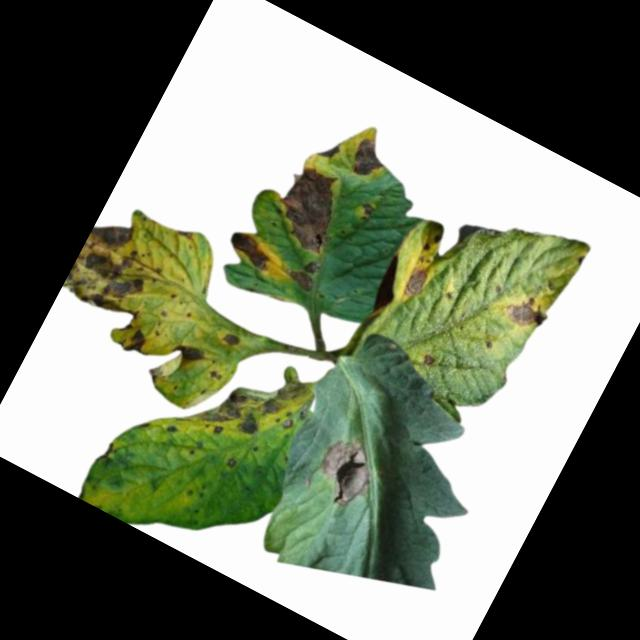Early_blight: (194, 342, 318, 468), (58, 213, 172, 332), (265, 158, 356, 256), (303, 431, 381, 514), (220, 226, 277, 276), (496, 288, 551, 338), (342, 132, 392, 184), (166, 334, 212, 373), (284, 252, 324, 294), (397, 259, 435, 303), (118, 326, 149, 361), (313, 135, 343, 165), (418, 229, 445, 260), (216, 327, 242, 351), (141, 363, 165, 387), (353, 201, 375, 225), (176, 225, 201, 246), (161, 421, 181, 442), (418, 351, 437, 372), (222, 454, 239, 471)
